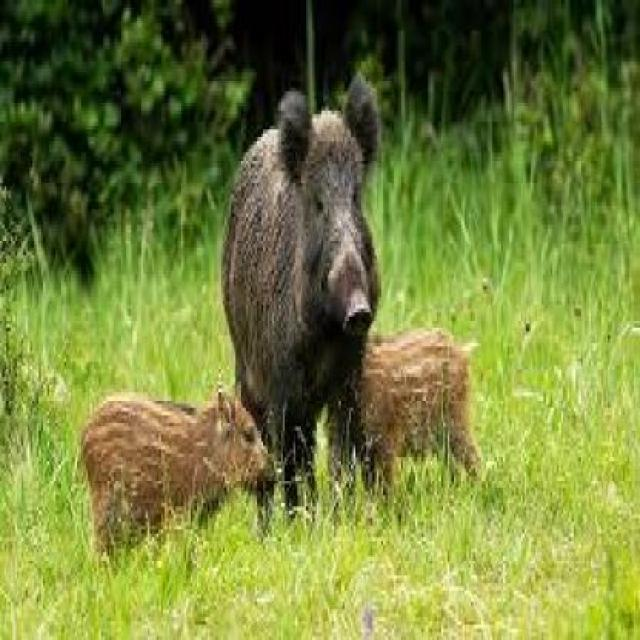wildboar: (218, 71, 384, 537), (79, 387, 272, 556), (335, 319, 491, 498)
